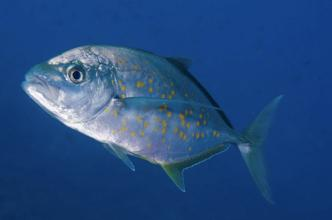Carangidae -Jacks-: (18, 28, 285, 209)
